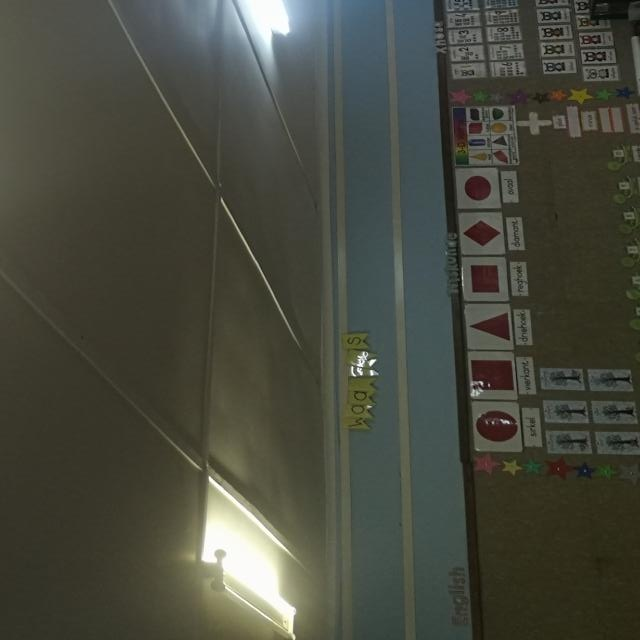fluorescent tube: (183, 505, 336, 640), (203, 0, 345, 68)
